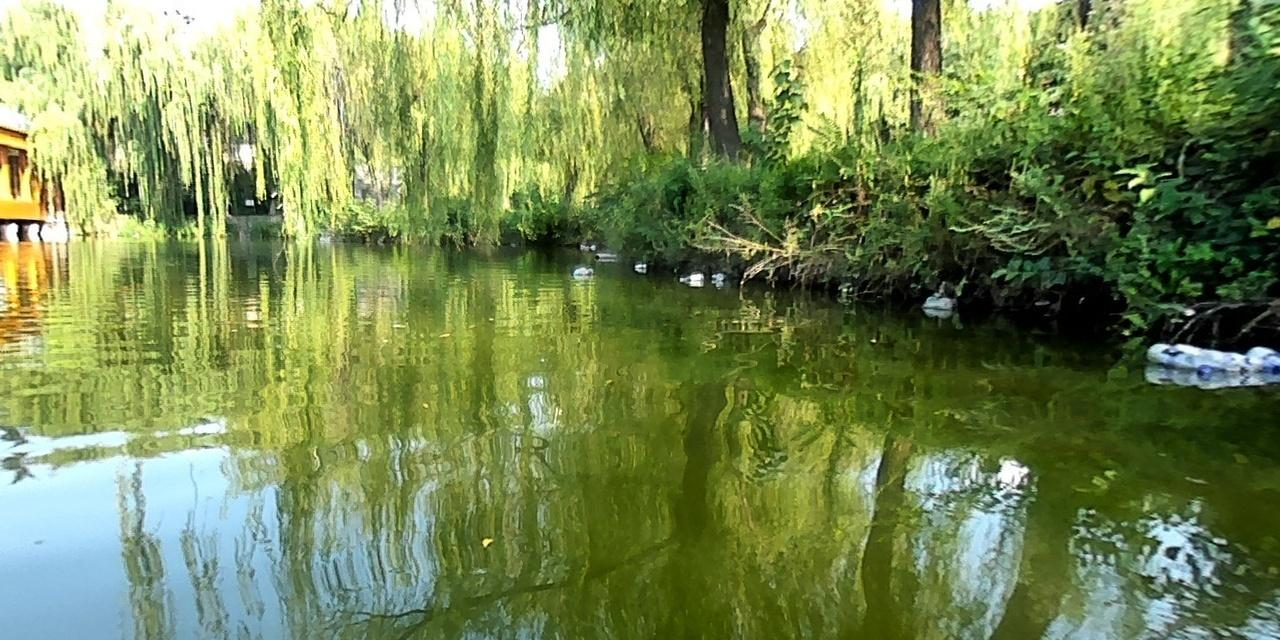bottle: (1180, 339, 1247, 382), (1144, 339, 1207, 379), (1250, 343, 1279, 381), (924, 294, 952, 309), (679, 272, 702, 285), (573, 266, 591, 275), (631, 261, 646, 271), (712, 271, 723, 282)
